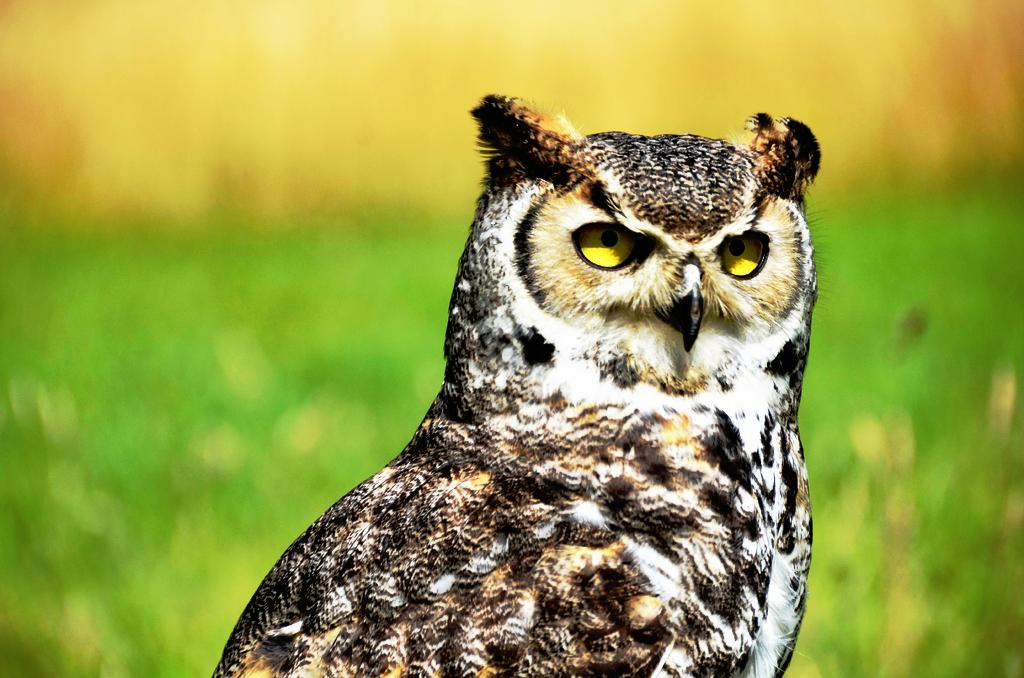Owl: (210, 93, 822, 678)
